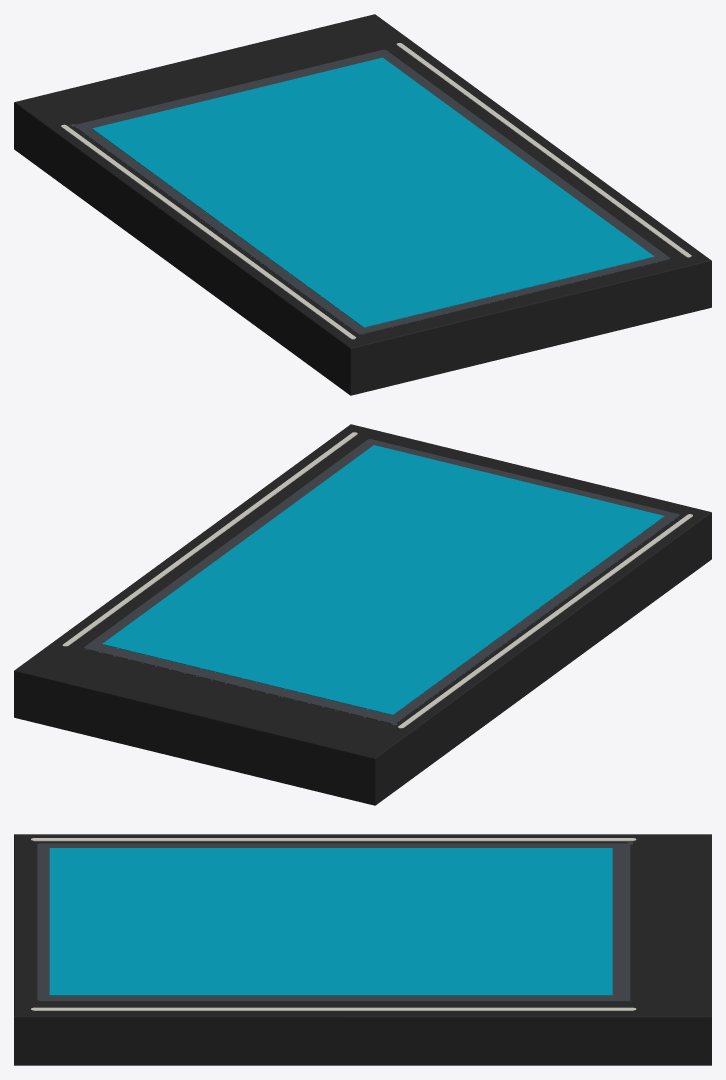
The model's file is kc-ea_edip240-xxx.glb.
3 renders of one model, top to bottom at view 1: azimuth 30°, elevation 25°; view 2: azimuth 150°, elevation 25°; view 3: azimuth 270°, elevation 25°, orthographic. The views are drawn at different scales.
Visible parts, largest first — view 1: 0_0.3333333333333333_0.5_0, 0_0_0_0, 0.08333333333333333_0.08333333333333333_0.08333333333333333_, 0.6666666666666666_0.6666666666666666_0.5833333333333334_0.8; view 2: 0_0.3333333333333333_0.5_0, 0_0_0_0, 0.08333333333333333_0.08333333333333333_0.08333333333333333_, 0.6666666666666666_0.6666666666666666_0.5833333333333334_0.8; view 3: 0_0.3333333333333333_0.5_0, 0_0_0_0, 0.08333333333333333_0.08333333333333333_0.08333333333333333_, 0.6666666666666666_0.6666666666666666_0.5833333333333334_0.8.
Boxes of the visible parts, x1,y1,x2,y2 form: 0_0.3333333333333333_0.5_0: (92, 57, 654, 327); 0_0_0_0: (14, 14, 711, 395); 0.08333333333333333_0.08333333333333333_0.08333333333333333_: (70, 49, 669, 334); 0.6666666666666666_0.6666666666666666_0.5833333333333334_0.8: (61, 43, 691, 339); 0_0.3333333333333333_0.5_0: (102, 445, 664, 715); 0_0_0_0: (14, 424, 711, 805); 0.08333333333333333_0.08333333333333333_0.08333333333333333_: (84, 439, 679, 725); 0.6666666666666666_0.6666666666666666_0.5833333333333334_0.8: (62, 432, 692, 728); 0_0.3333333333333333_0.5_0: (49, 848, 612, 995); 0_0_0_0: (14, 834, 711, 1065); 0.08333333333333333_0.08333333333333333_0.08333333333333333_: (37, 842, 633, 1001); 0.6666666666666666_0.6666666666666666_0.5833333333333334_0.8: (31, 838, 636, 1010).
Size of the model in its own units: 7 by 1.3 by 11.3.
